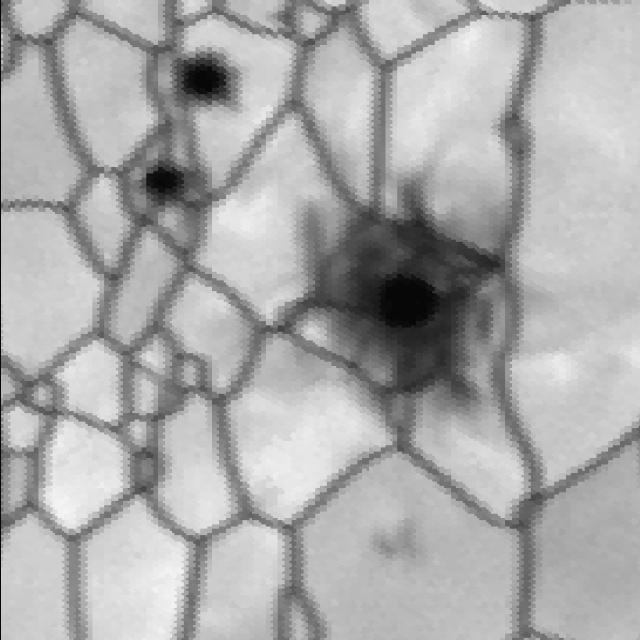good_void: (286, 176, 518, 413), (156, 46, 249, 117), (362, 505, 428, 573), (131, 156, 211, 210)
